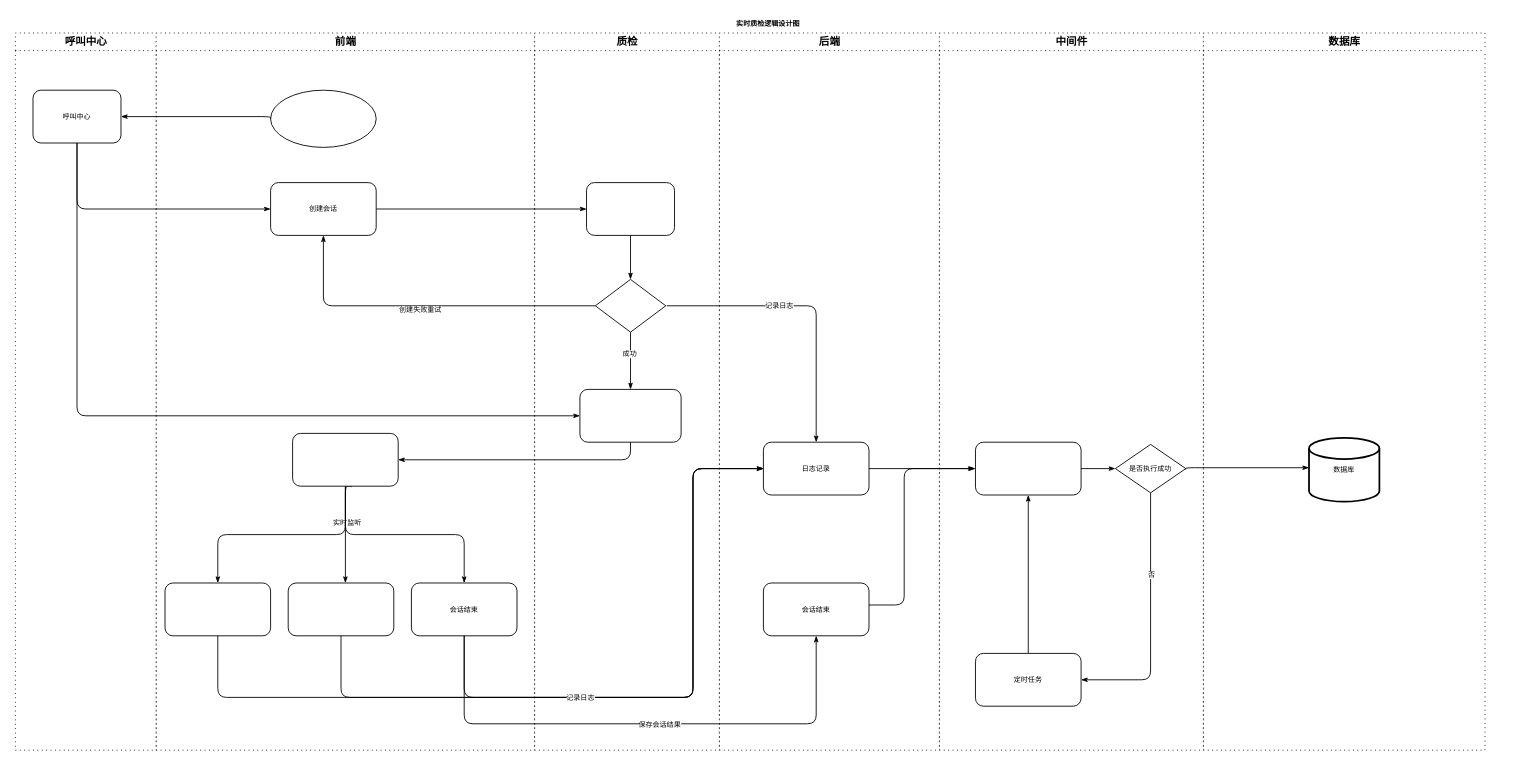
Some shapes in this 1536 by 766 pixel diagram are drawn without their labels. The centre of each missing label's shape, as x and y in pixels:
呼出: point 323,118
实时语音流交互: point 630,415
是否创建成功: point 630,305
消息队列: point 1028,468
质检SDK: point 345,459
质检服务: point 630,208
违规监听: point 217,609
通话介入: point 340,609
